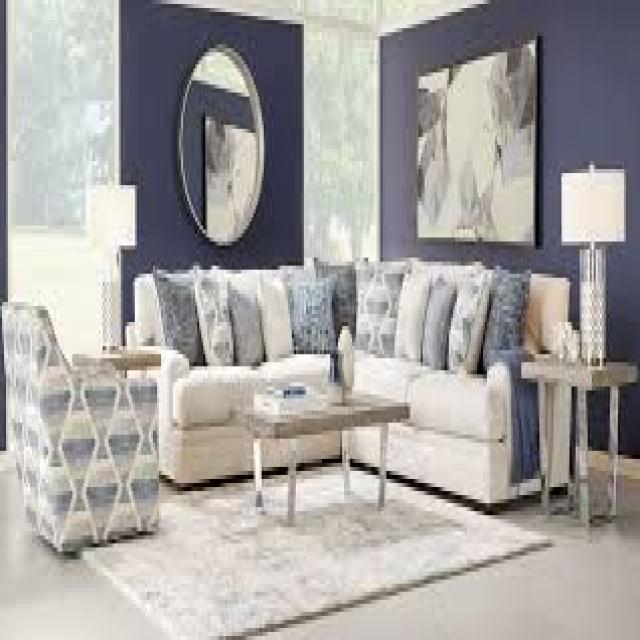Chair: (0, 289, 163, 588)
Lamp: (554, 163, 627, 363), (80, 169, 140, 343)
Sofa: (332, 237, 558, 505), (133, 272, 364, 490)
Table: (225, 380, 405, 530)
